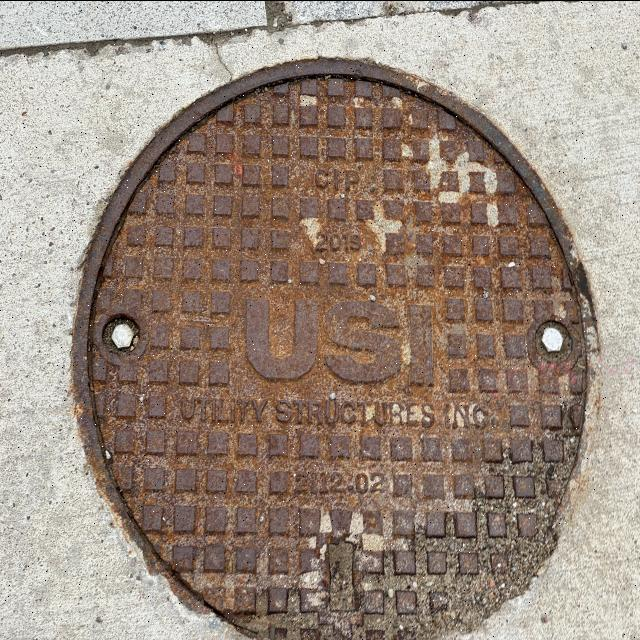Manhole: (72, 56, 604, 634)
